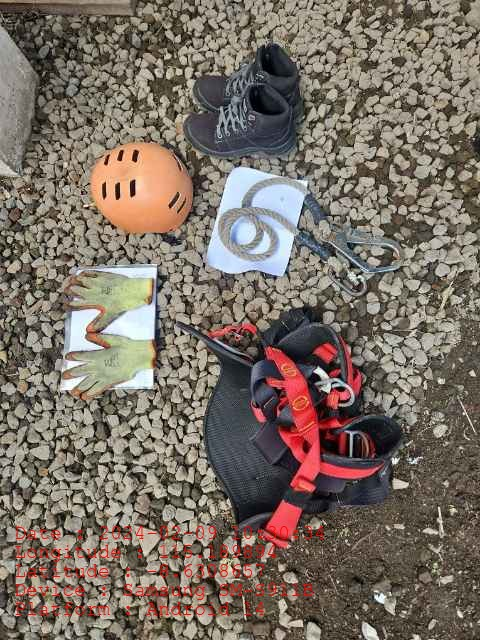HELM: (90, 142, 194, 232)
SARUNG_TANGAN: (62, 333, 156, 401), (61, 269, 155, 332)
SEPATU: (182, 42, 301, 157)
TAMBANG_SLING: (215, 175, 404, 299)
